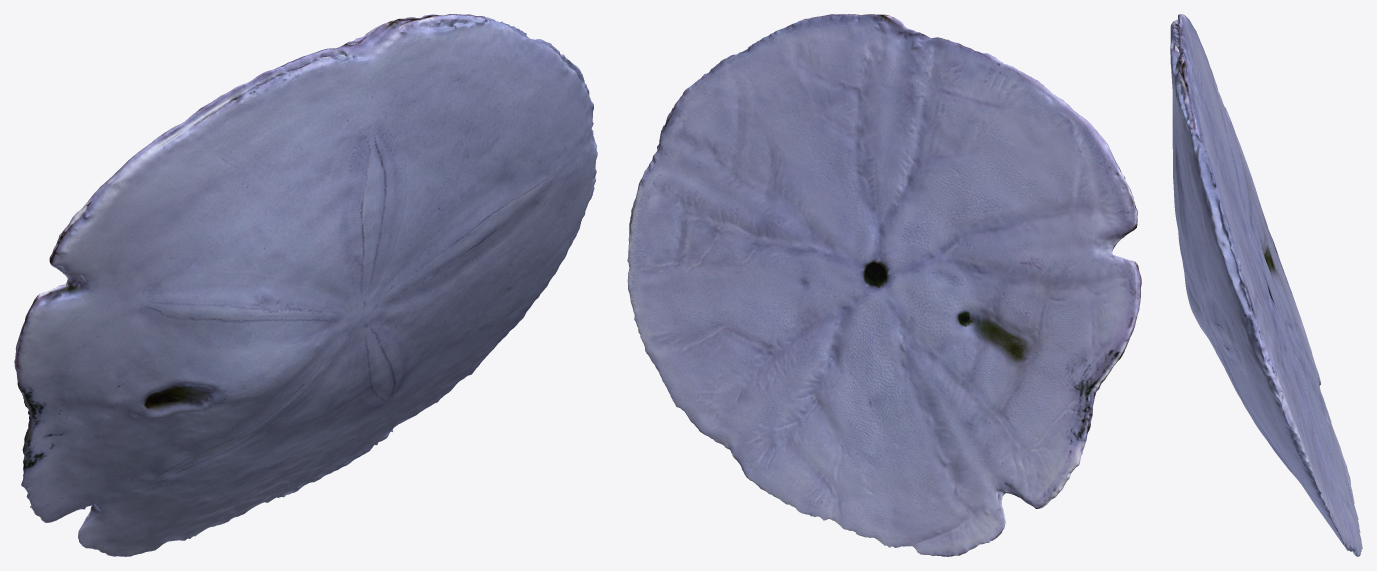
File: MZUR3D-030.glb
3 renders of one model, left to right at view 1: azimuth 30°, elevation 25°; view 2: azimuth 150°, elevation 25°; view 3: azimuth 270°, elevation 25°, orthographic. The views are drawn at different scales.
Parts seen in each view (by area): view 1: MZUR3D-030; view 2: MZUR3D-030; view 3: MZUR3D-030.
Part boxes in pixels (x1,y1,x2,y2): MZUR3D-030: (14,14,597,556); MZUR3D-030: (627,14,1141,556); MZUR3D-030: (1170,14,1362,556).
Size of the model in its own units: 0.8506 by 0.7606 by 0.2641.
Materials: 1 (1 with a texture image).
